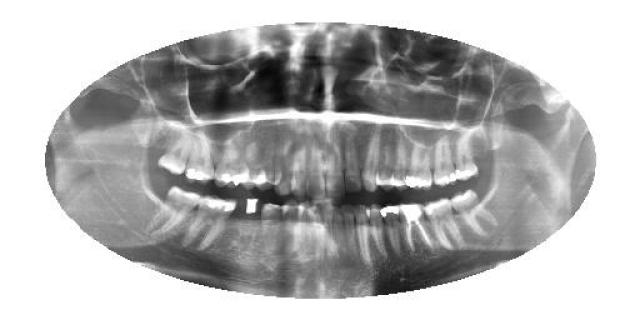Fillings: (182, 194, 238, 251), (185, 133, 216, 185), (405, 141, 435, 191), (212, 139, 242, 189), (456, 135, 480, 183), (434, 136, 456, 188), (382, 204, 402, 258)
Implant: (401, 202, 435, 252)
